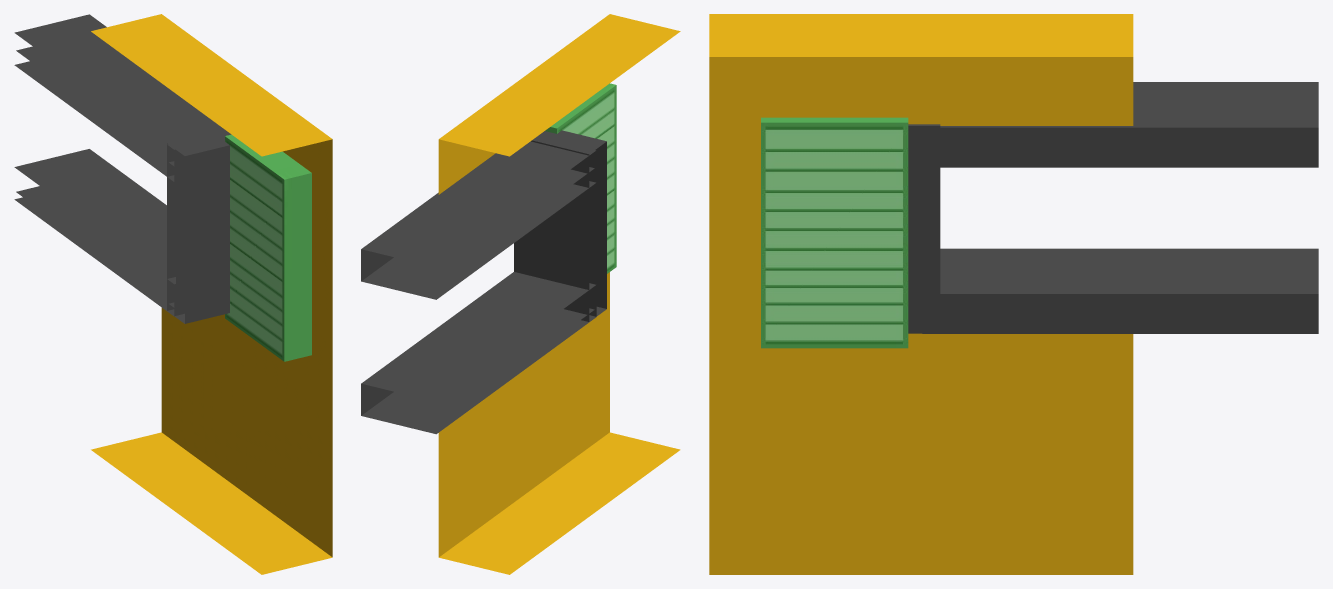
Rendered from SHUTTER4.obj.
3 renders of one model, left to right at view 1: azimuth 30°, elevation 25°; view 2: azimuth 150°, elevation 25°; view 3: azimuth 270°, elevation 25°, orthographic. The views are drawn at different scales.
Parts seen in each view (by area): view 1: user; view 2: user; view 3: user.
Boxes of the visible parts, box(x1,y1,x2,y2) form: user: box(14, 14, 332, 574); user: box(361, 14, 680, 574); user: box(709, 14, 1318, 574).
Size of the model in its own units: 26.25 by 129 by 138.
4 materials, 4 textured.
